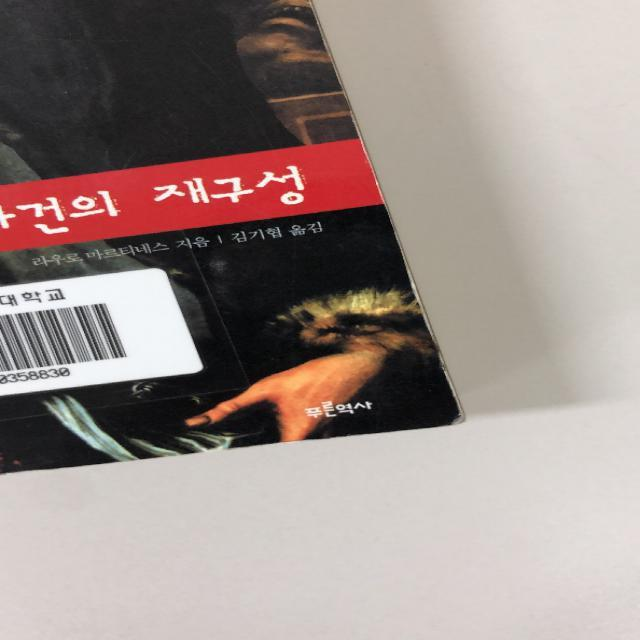Wornout: (393, 230, 440, 348), (348, 104, 393, 208), (435, 349, 470, 427)
